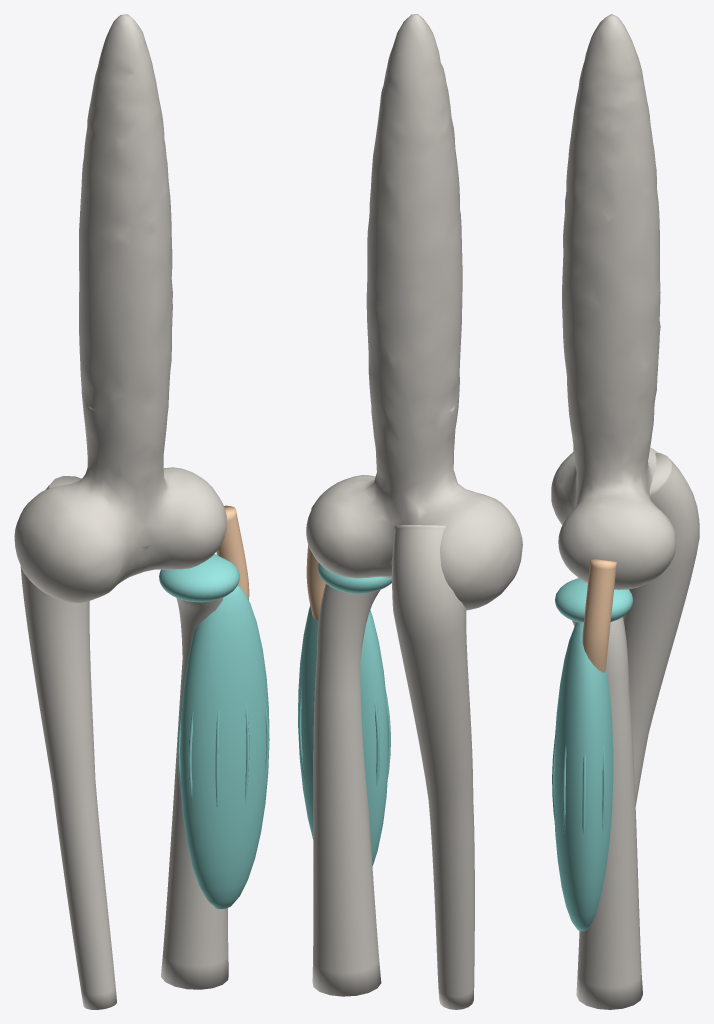
The model's file is elbow-tendon.glb.
3 views of the same model, side by side, from view 1: azimuth 30°, elevation 25°; view 2: azimuth 150°, elevation 25°; view 3: azimuth 270°, elevation 25° (orthographic). The views are drawn at different scales.
Parts seen in each view (by area): view 1: static #eee5d3, static #49bdb4, static #f2a066; view 2: static #eee5d3, static #49bdb4, static #f2a066; view 3: static #eee5d3, static #49bdb4, static #f2a066.
Boxes of the visible parts, box(x1,y1,x2,y2) form: static #eee5d3: box(14, 14, 228, 1009); static #49bdb4: box(159, 554, 269, 909); static #f2a066: box(216, 505, 249, 600); static #eee5d3: box(306, 14, 522, 1009); static #49bdb4: box(298, 563, 391, 865); static #f2a066: box(306, 505, 325, 620); static #eee5d3: box(551, 14, 699, 1009); static #49bdb4: box(552, 578, 633, 931); static #f2a066: box(582, 558, 616, 672).
Size of the model in its own units: 0.1294 by 0.5333 by 0.0757.
